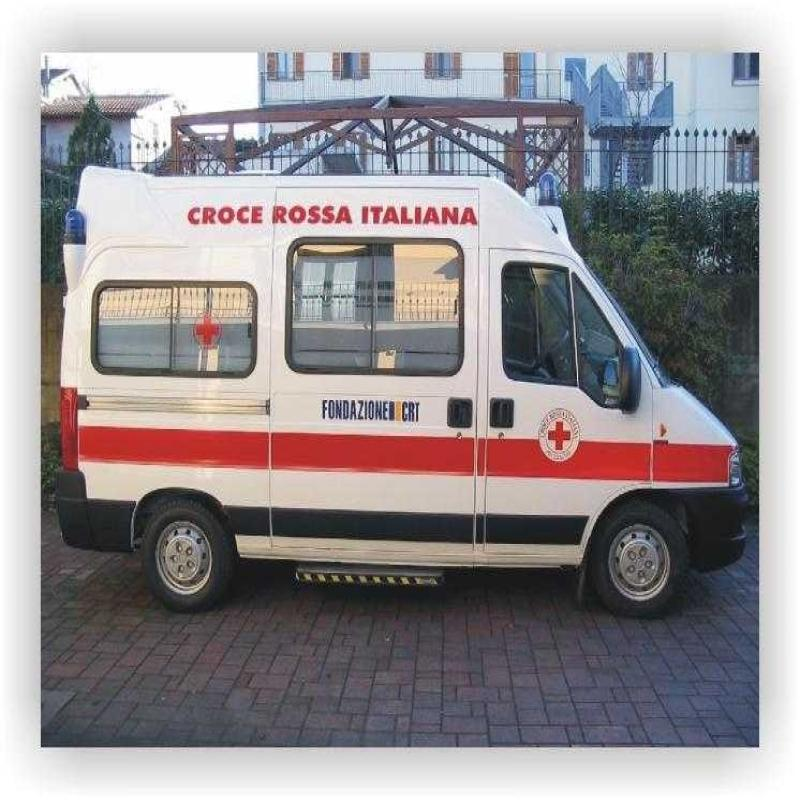AmbulanceSiren: (58, 205, 93, 244), (532, 184, 566, 212)
